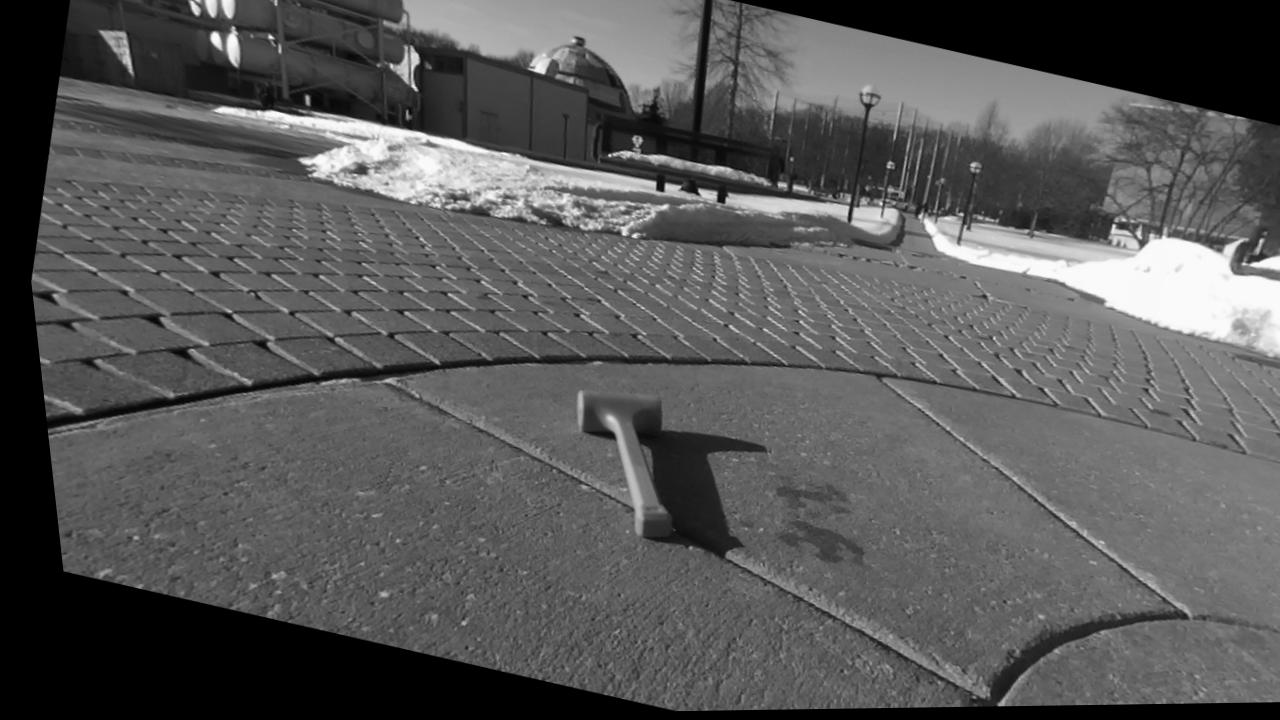mallet: (576, 391, 672, 538)
